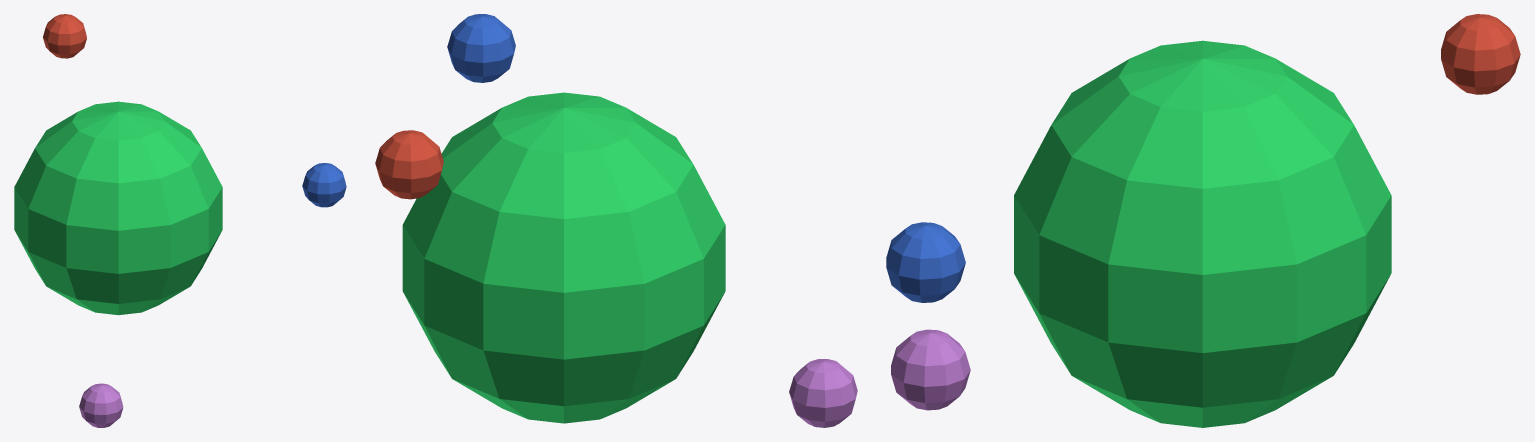
Rendered from SphereItem.fbx.
The picture shows the model from 3 angles, left to right: view 1: azimuth 30°, elevation 25°; view 2: azimuth 150°, elevation 25°; view 3: azimuth 270°, elevation 25°; orthographic projection. The views are drawn at different scales.
Parts seen in each view (by area): view 1: Sphere, Sphere.002, Sphere.003, Sphere.001; view 2: Sphere, Sphere.003, Sphere.001, Sphere.002; view 3: Sphere, Sphere.002, Sphere.003, Sphere.001.
Boxes of the visible parts, left/top/right/bottom form: Sphere: left=14, top=101, right=222, bottom=315; Sphere.002: left=79, top=383, right=123, bottom=427; Sphere.003: left=302, top=163, right=346, bottom=207; Sphere.001: left=43, top=14, right=86, bottom=58; Sphere: left=402, top=92, right=725, bottom=423; Sphere.003: left=447, top=14, right=515, bottom=82; Sphere.001: left=375, top=130, right=443, bottom=199; Sphere.002: left=789, top=359, right=857, bottom=427; Sphere: left=1014, top=40, right=1391, bottom=427; Sphere.002: left=891, top=329, right=970, bottom=410; Sphere.003: left=886, top=222, right=965, bottom=302; Sphere.001: left=1441, top=14, right=1520, bottom=94.
Size of the model in its own units: 281 by 280 by 328.
